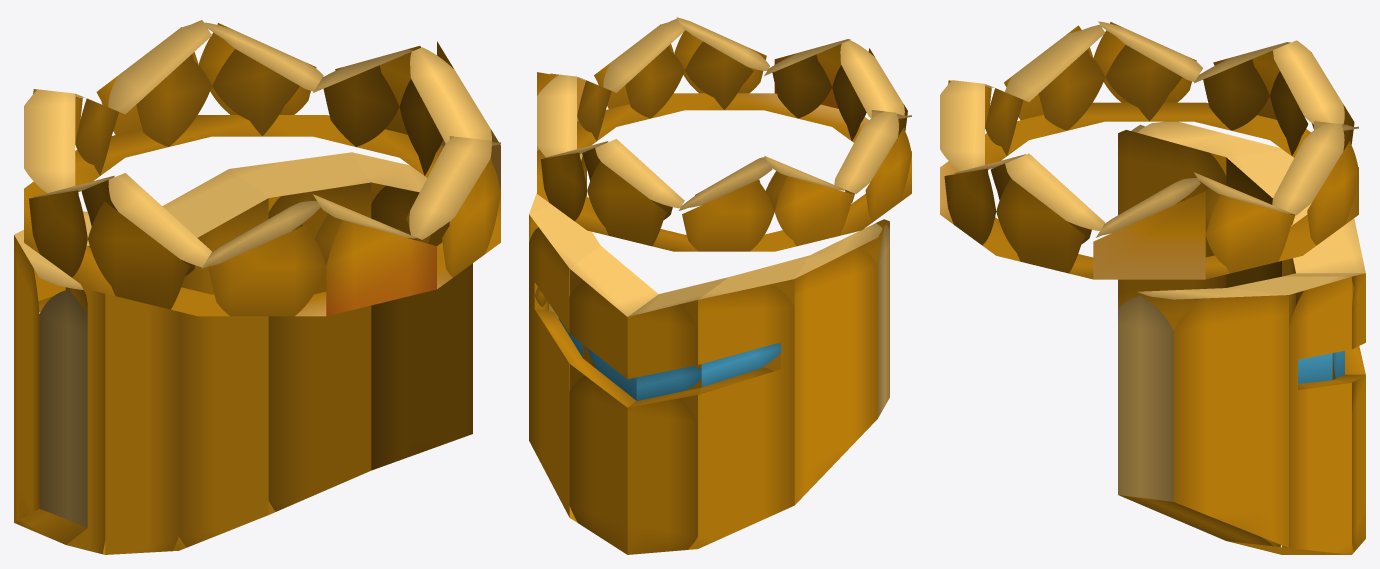
Rendered from SeriphHead.obj.
3 renders of one model, left to right at view 1: azimuth 30°, elevation 25°; view 2: azimuth 150°, elevation 25°; view 3: azimuth 270°, elevation 25°, orthographic. The views are drawn at different scales.
Visible parts, largest first — view 1: cuboid, tube; view 2: cuboid, tube; view 3: cuboid, tube.
Boxes of the visible parts, left/top/right/bottom form: cuboid: left=14, top=152, right=472, bottom=554; tube: left=24, top=20, right=500, bottom=316; cuboid: left=529, top=153, right=889, bottom=554; tube: left=537, top=17, right=911, bottom=251; cuboid: left=1118, top=121, right=1365, bottom=554; tube: left=940, top=21, right=1358, bottom=279.
Size of the model in its own units: 0.3795 by 0.4313 by 0.3812.
Materials: 1 (1 with a texture image).
